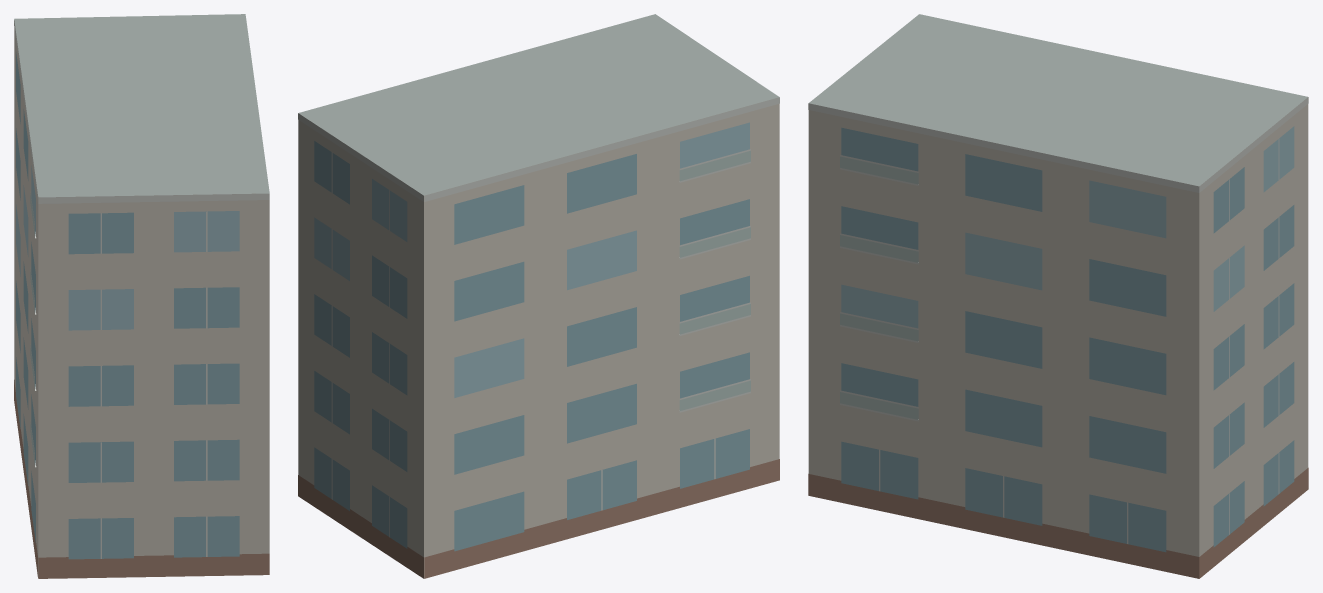
Rendered from survey-upis-32882621.glb.
3 views of the same model, side by side, from view 1: azimuth 30°, elevation 25°; view 2: azimuth 150°, elevation 25°; view 3: azimuth 270°, elevation 25° (orthographic). The views are drawn at different scales.
Parts seen in each view (by area): view 1: survey-upis-32882621.tmp; view 2: survey-upis-32882621.tmp; view 3: survey-upis-32882621.tmp.
Boxes of the visible parts, box(x1,y1,x2,y2) form: survey-upis-32882621.tmp: box(14, 14, 269, 578); survey-upis-32882621.tmp: box(298, 14, 779, 578); survey-upis-32882621.tmp: box(808, 14, 1308, 578).
Size of the model in its own units: 13.58 by 14.4 by 16.63.
